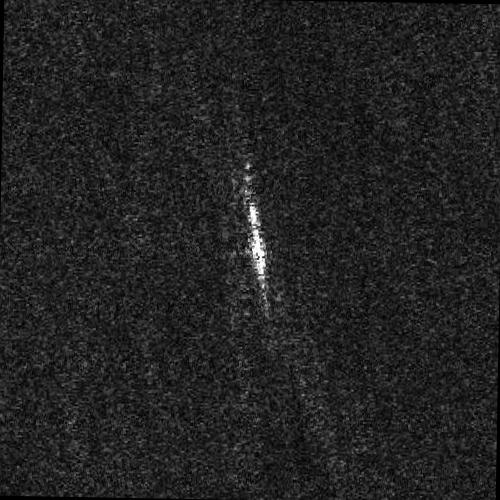ship: (248, 201, 267, 292)
